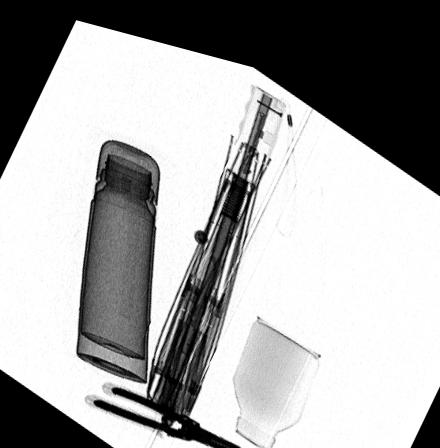Pliers: (92, 380, 246, 446)
